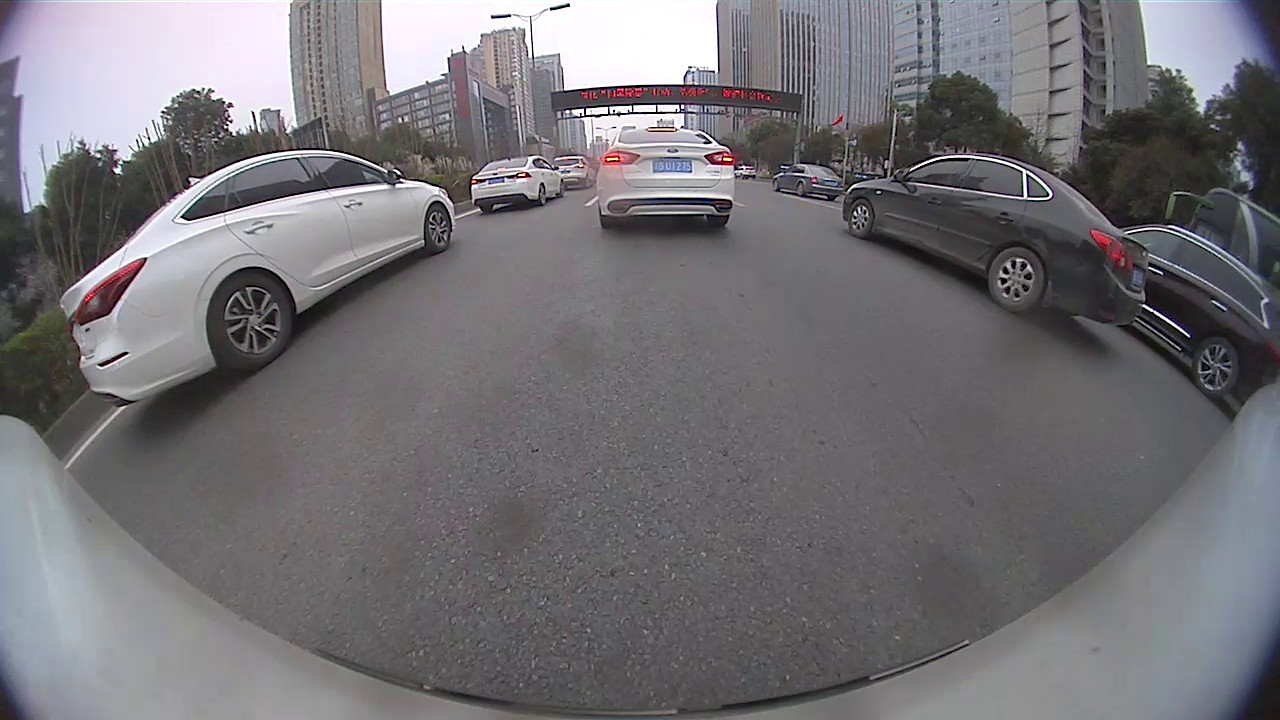bus: (1159, 184, 1278, 287)
car: (60, 150, 456, 406), (840, 150, 1149, 328), (1116, 222, 1279, 399), (598, 127, 735, 228), (470, 154, 565, 213), (772, 163, 843, 201), (552, 154, 597, 190)
front: (423, 201, 455, 256), (844, 197, 878, 242), (770, 178, 779, 191)
rear: (210, 278, 296, 374), (989, 247, 1046, 313), (1195, 335, 1238, 399), (537, 183, 548, 208), (795, 182, 806, 197)
